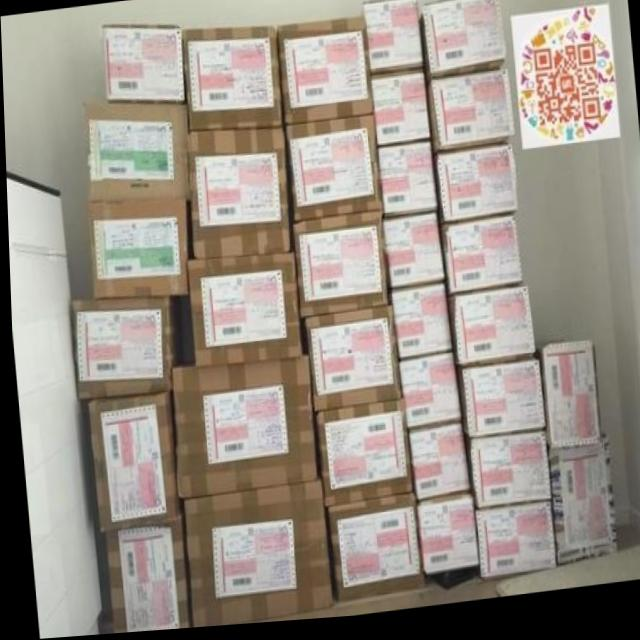box: (178, 479, 328, 630), (168, 360, 312, 503), (85, 393, 176, 535), (188, 133, 288, 260), (186, 256, 298, 369), (69, 299, 181, 402), (276, 21, 373, 130), (312, 404, 409, 511), (182, 30, 281, 134), (85, 103, 189, 202), (302, 310, 399, 416), (324, 499, 419, 607), (285, 120, 380, 226), (88, 203, 188, 302), (291, 216, 385, 320), (103, 523, 185, 635), (545, 444, 612, 574), (418, 0, 506, 88), (426, 76, 513, 160), (447, 292, 532, 376), (460, 435, 549, 515), (454, 366, 542, 444), (430, 152, 515, 232), (536, 348, 597, 458), (101, 26, 184, 106), (470, 508, 552, 588), (439, 224, 520, 301), (412, 498, 475, 582), (395, 358, 459, 436), (404, 427, 467, 506), (388, 287, 450, 365), (380, 219, 442, 294), (362, 2, 422, 79), (370, 74, 429, 151), (376, 148, 434, 222)
